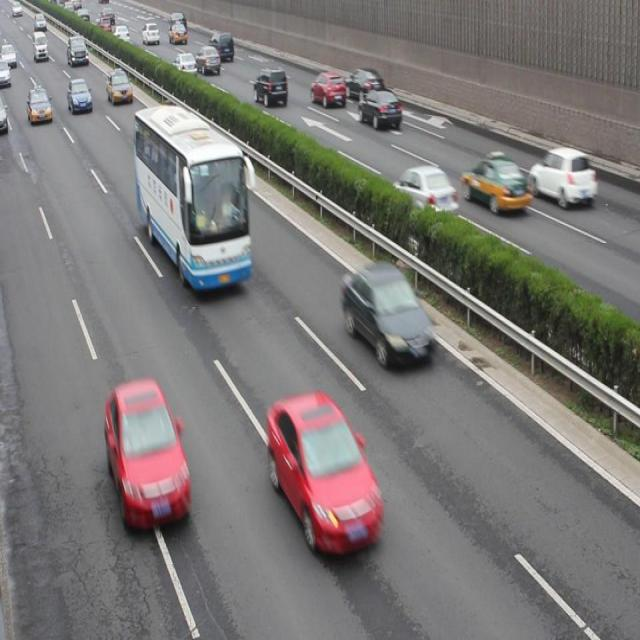car: (268, 394, 383, 557), (106, 380, 192, 531), (340, 263, 434, 371), (460, 150, 530, 213), (528, 145, 597, 206), (392, 164, 457, 218), (358, 89, 401, 128), (344, 66, 384, 102), (254, 67, 288, 107), (310, 71, 345, 109), (27, 87, 52, 124), (67, 79, 93, 113), (106, 70, 132, 103), (194, 46, 220, 74), (170, 52, 197, 78), (67, 36, 90, 64), (168, 23, 188, 45), (142, 22, 160, 44), (111, 24, 130, 44), (169, 13, 187, 33), (0, 45, 16, 65), (1, 61, 11, 87)
truck: (210, 31, 234, 60), (33, 30, 49, 61)
van: (134, 104, 255, 292)
